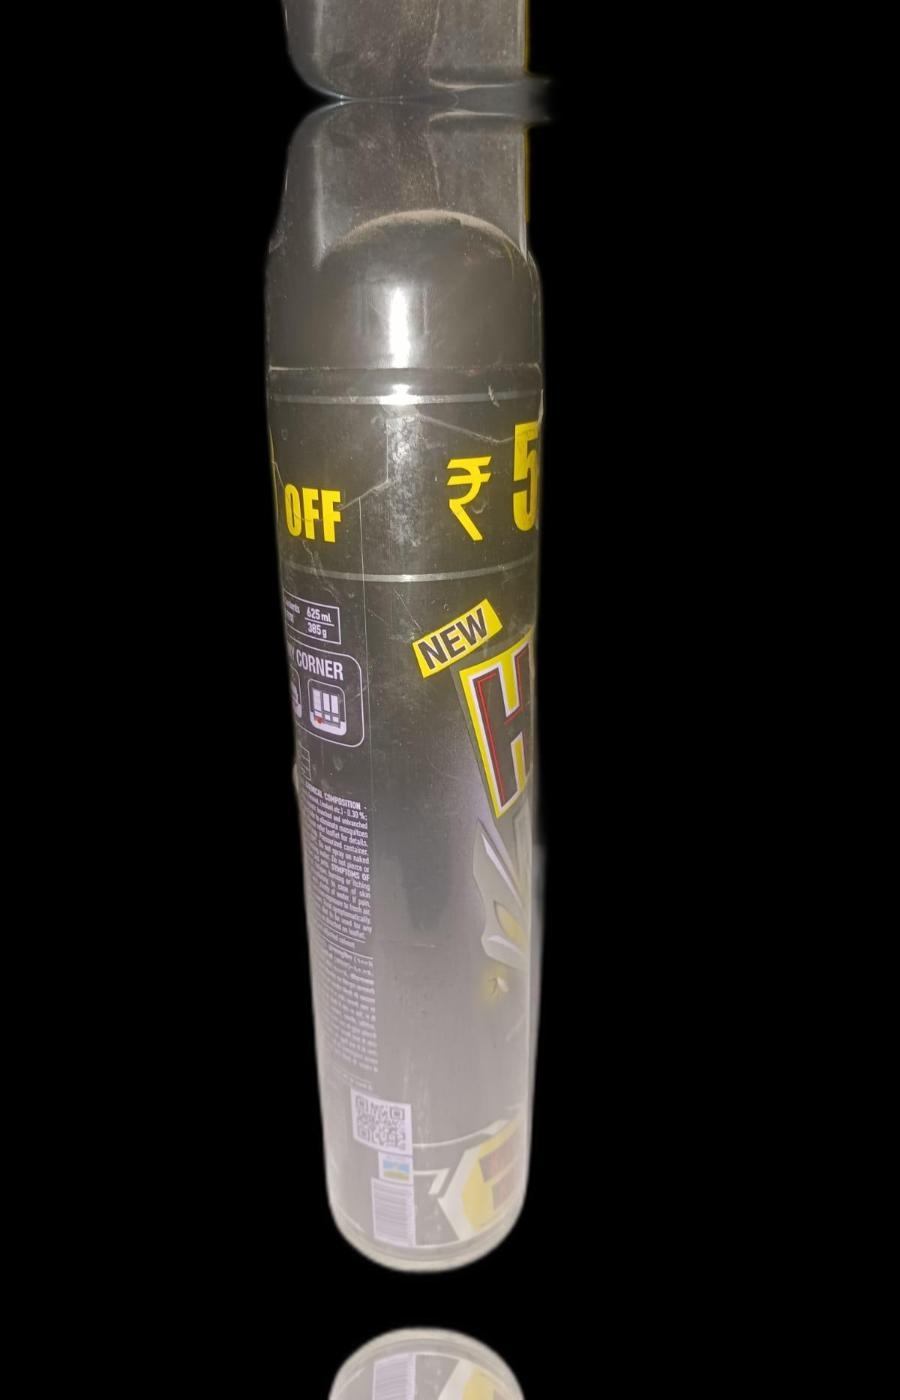HIT Mosquito - Fly Killer Spray700 ml: (260, 100, 542, 1273)
